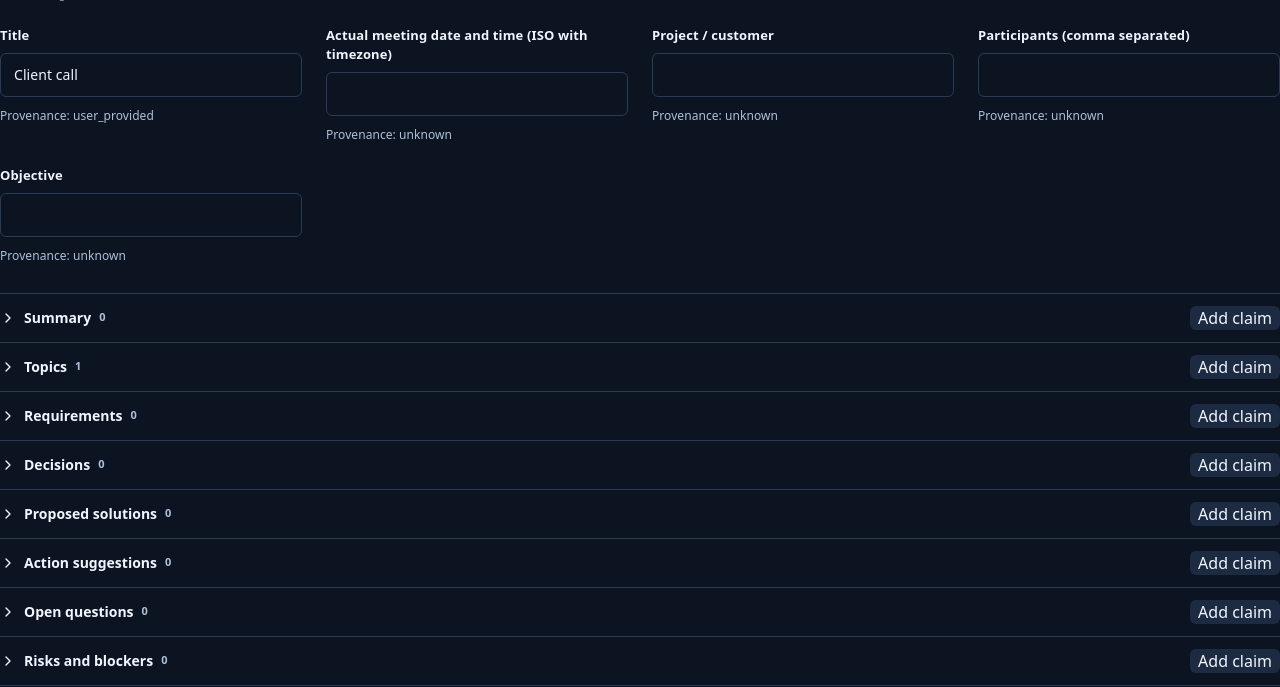
Test: can add and remove a blank claim without leaving the draft dirty
Click the 4th button "Add claim" at (1235, 465), box [1190,453,1279,477]
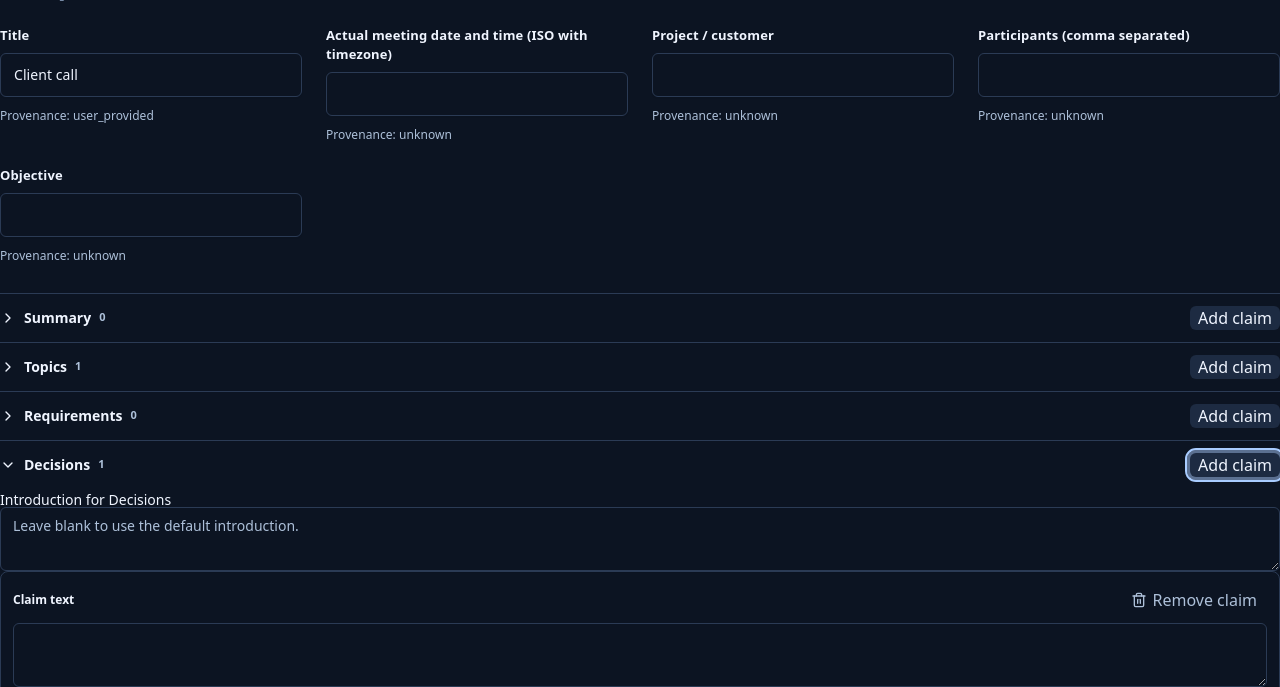
Expected: the button "Decisions 1" is expanded, [0,444,1178,486]
Expected: the text box labelled "Claim text" is shown, [13,623,1267,686]
Click the button "Remove claim" at (1194, 600), box [1120,584,1267,616]
(page scrolled)
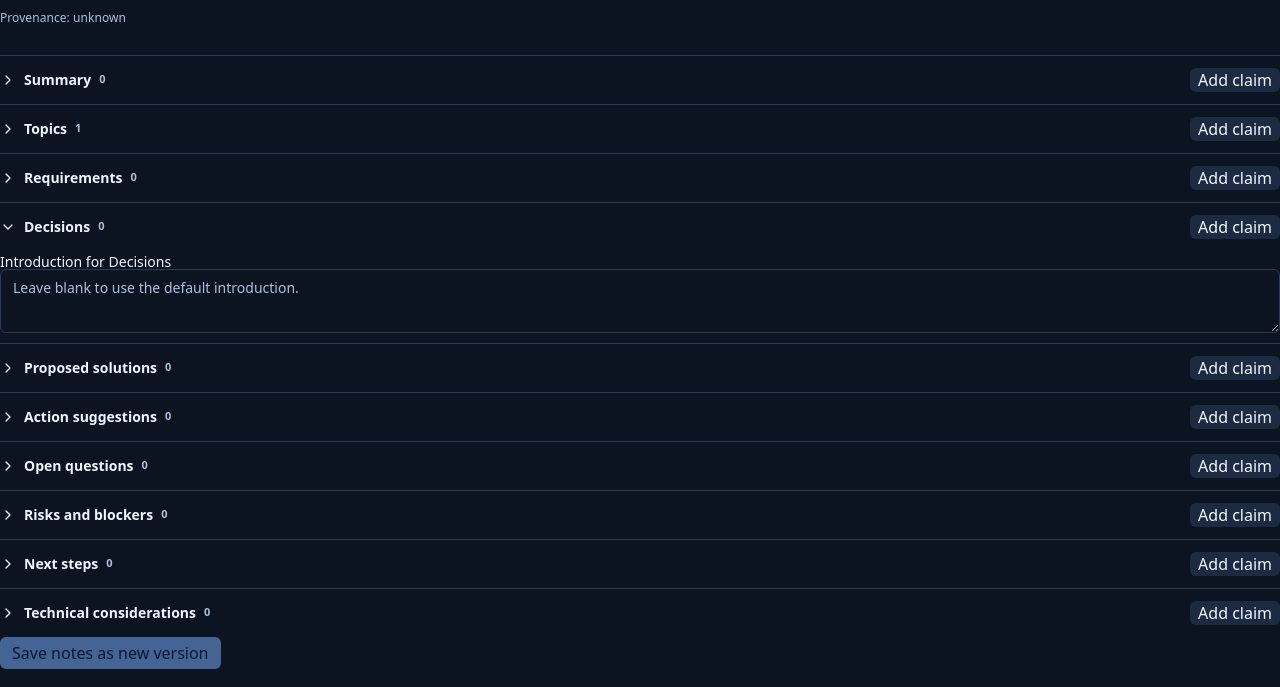
Expected: the label "Claim text" is gone
Expected: the button "Save notes as new version" is disabled, [0,637,220,669]
